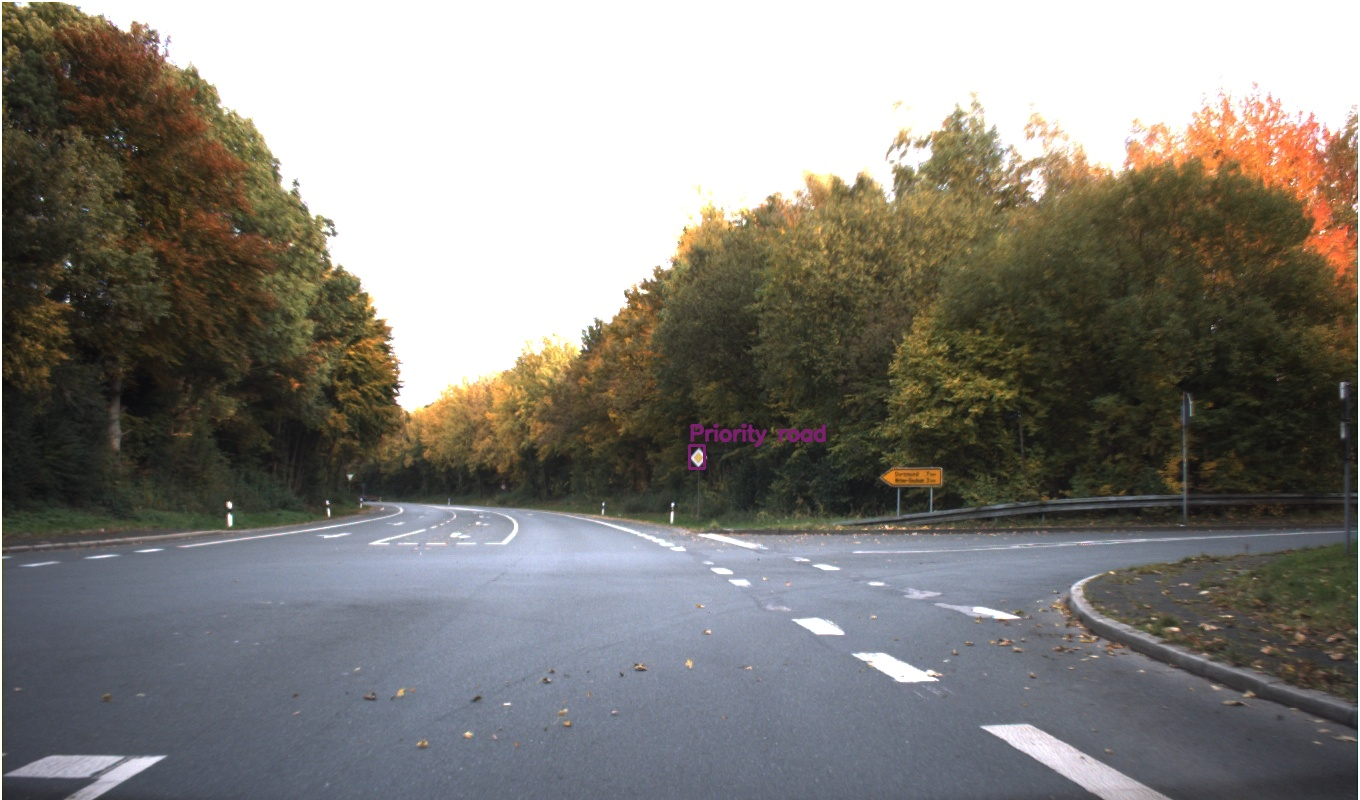Turn left ahead: (945, 374, 984, 415)
Yield: (933, 314, 990, 365)
